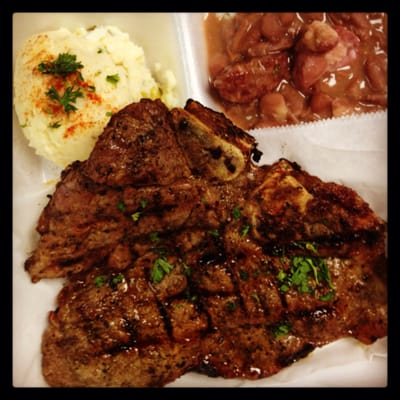soup: (25, 91, 387, 385)
